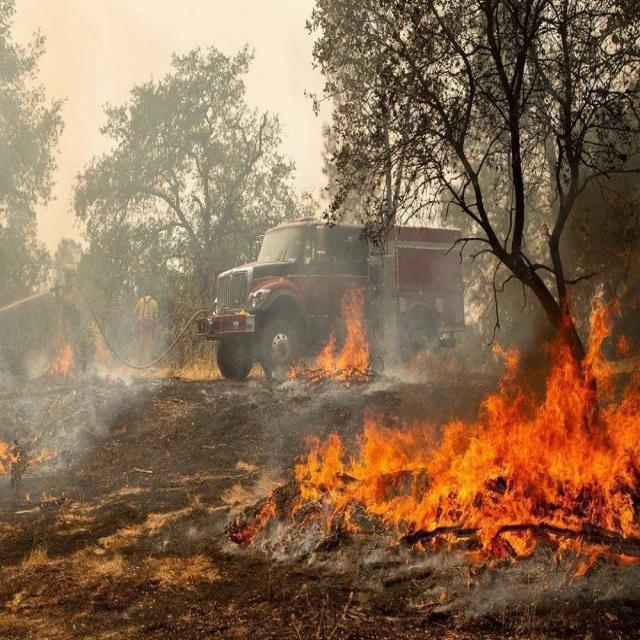Fire: (283, 294, 637, 562), (285, 284, 370, 384)
